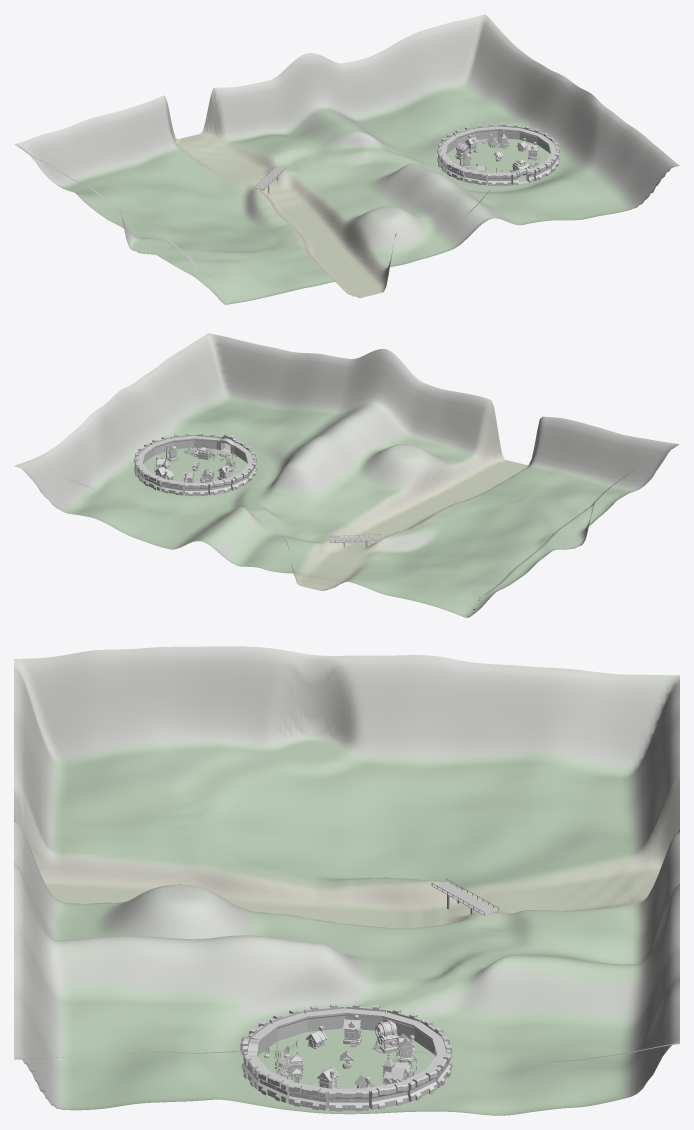
Rendered from expedition_vallon_collision.glb.
3 renders of one model, top to bottom at view 1: azimuth 30°, elevation 25°; view 2: azimuth 150°, elevation 25°; view 3: azimuth 270°, elevation 25°, orthographic. The views are drawn at different scales.
Parts seen in each view (by area): view 1: vallon_collision; view 2: vallon_collision; view 3: vallon_collision.
Boxes of the visible parts, x1,y1,x2,y2 form: vallon_collision: [14, 14, 679, 304]; vallon_collision: [14, 333, 679, 617]; vallon_collision: [14, 646, 679, 1115].
Bounding box in the file's own units: 280 × 46.47 × 200.
